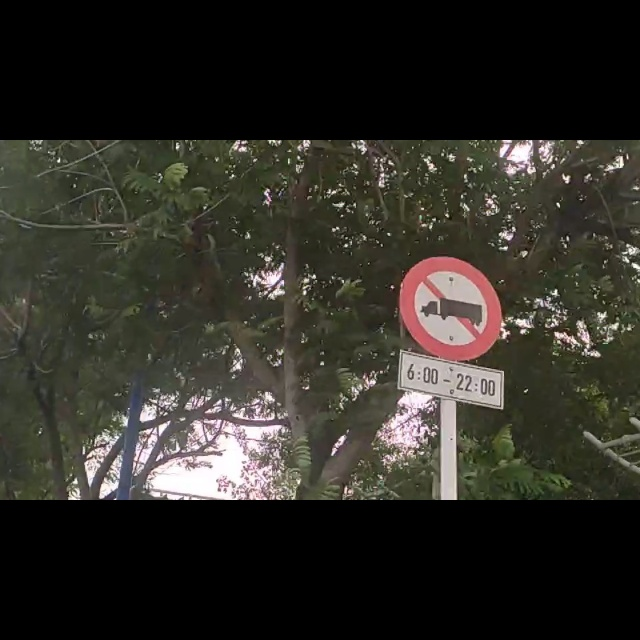bien_cam: (388, 201, 513, 467)
